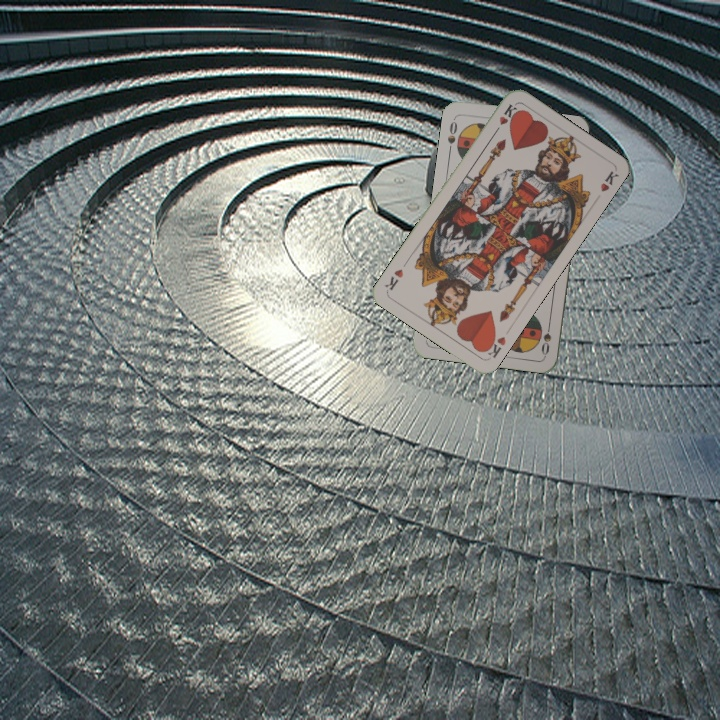HK: (490, 100, 520, 137), (480, 330, 508, 361)
SO: (537, 317, 554, 357), (444, 114, 460, 155)
